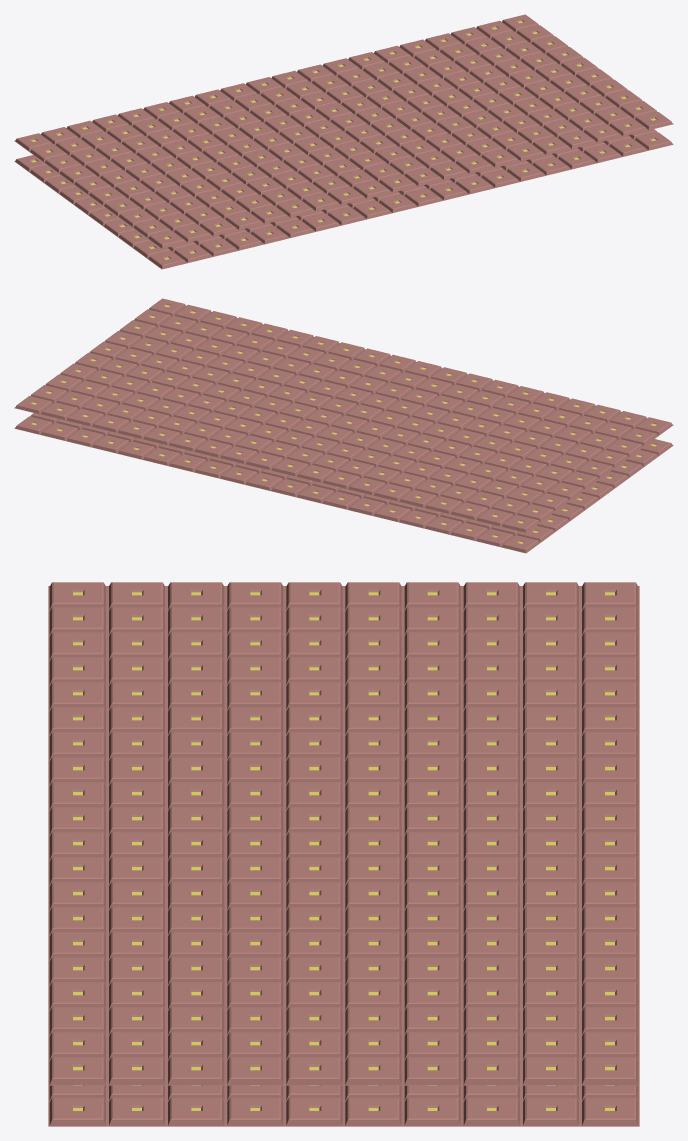
3 renders of one model, top to bottom at view 1: azimuth 30°, elevation 25°; view 2: azimuth 150°, elevation 25°; view 3: azimuth 270°, elevation 25°, orthographic. The views are drawn at different scales.
Parts seen in each view (by area): view 1: Cube, Cube.001; view 2: Cube, Cube.001; view 3: Cube, Cube.001.
Boxes of the visible parts, <box> form: Cube: <box>14,14,673,248</box>; Cube.001: <box>14,129,673,269</box>; Cube: <box>14,298,673,532</box>; Cube.001: <box>14,413,673,553</box>; Cube: <box>48,582,639,1085</box>; Cube.001: <box>48,1085,639,1126</box>.
Size of the model in its own units: 4000 by 175 by 2000.
